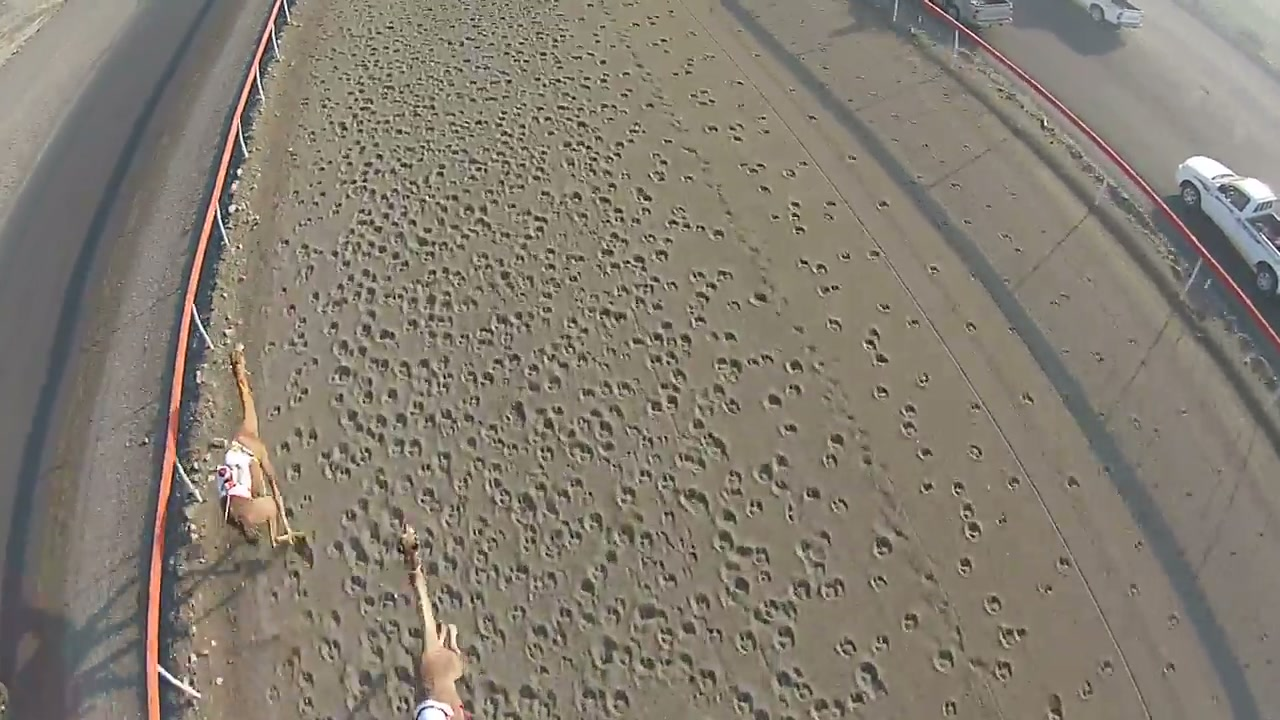animal_foot_print: (248, 0, 662, 711), (637, 55, 1050, 695), (637, 133, 924, 691)
